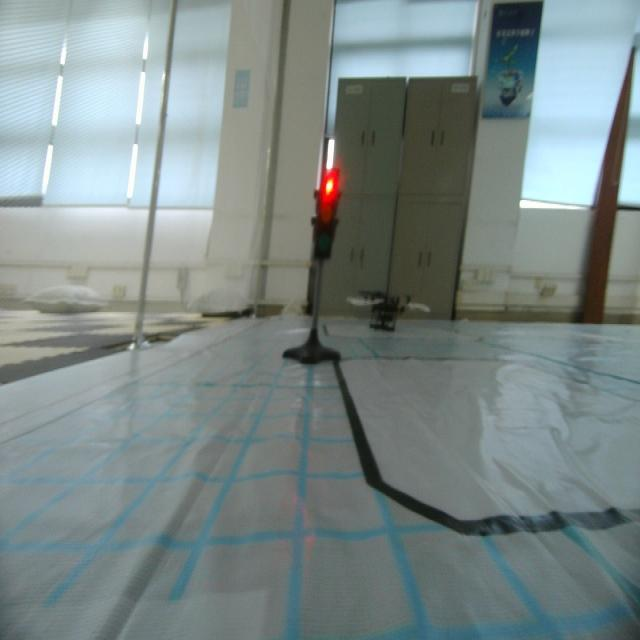red: (313, 166, 339, 262)
